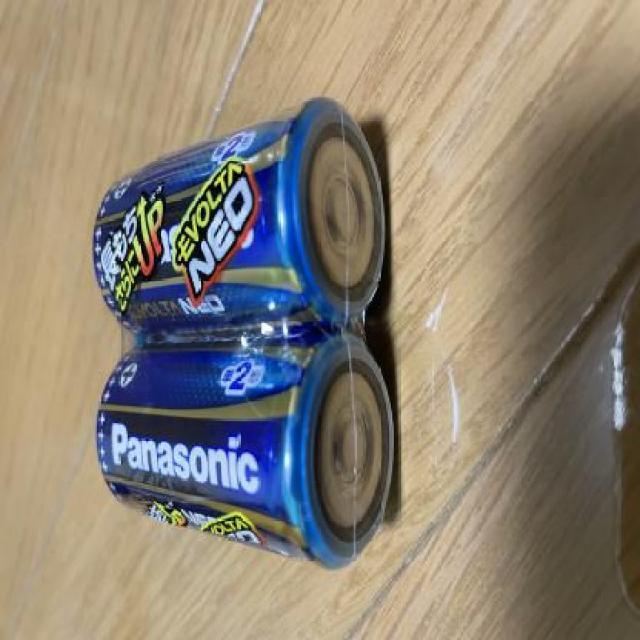hazardous waste: (84, 340, 403, 586), (86, 100, 392, 337)
